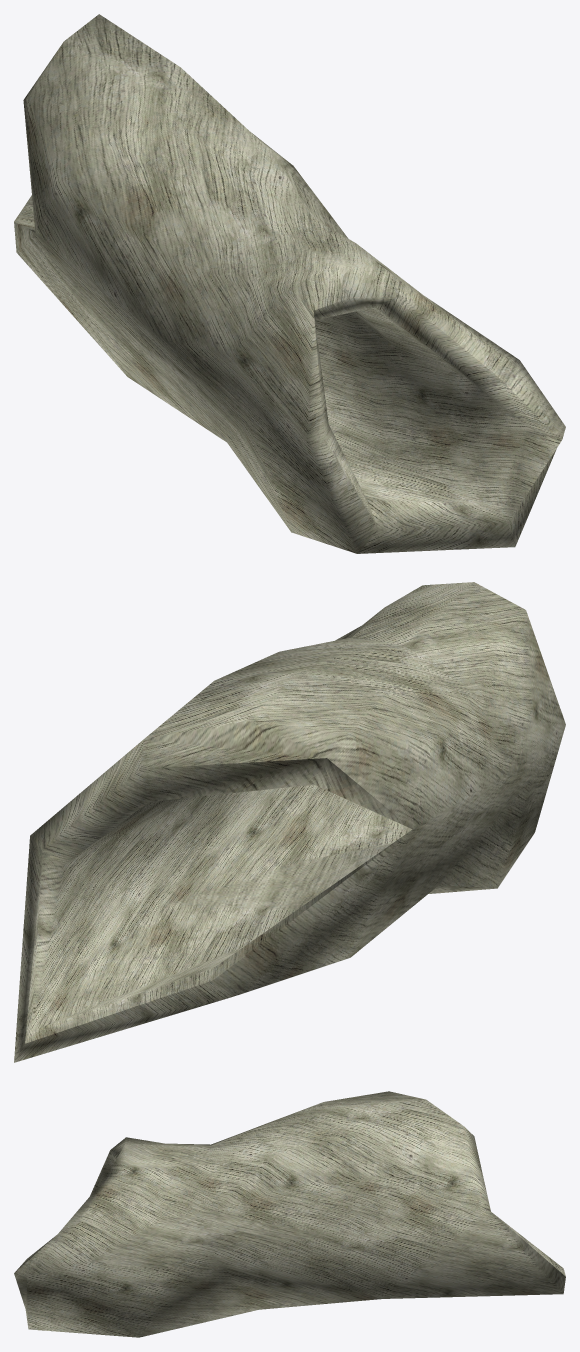
File: shor_driftwood_massassi_hollow_l0.fbx
The picture shows the model from 3 angles, top to bottom: view 1: azimuth 30°, elevation 25°; view 2: azimuth 150°, elevation 25°; view 3: azimuth 270°, elevation 25°; orthographic projection. The views are drawn at different scales.
Parts seen in each view (by area): view 1: mesh_node; view 2: mesh_node; view 3: mesh_node.
Part boxes in pixels (left/top/right/bottom): mesh_node: left=14, top=14, right=565, bottom=553; mesh_node: left=14, top=582, right=565, bottom=1062; mesh_node: left=14, top=1091, right=565, bottom=1337.
Bounding box in the file's own units: 5.48 × 6.13 × 15.1.
